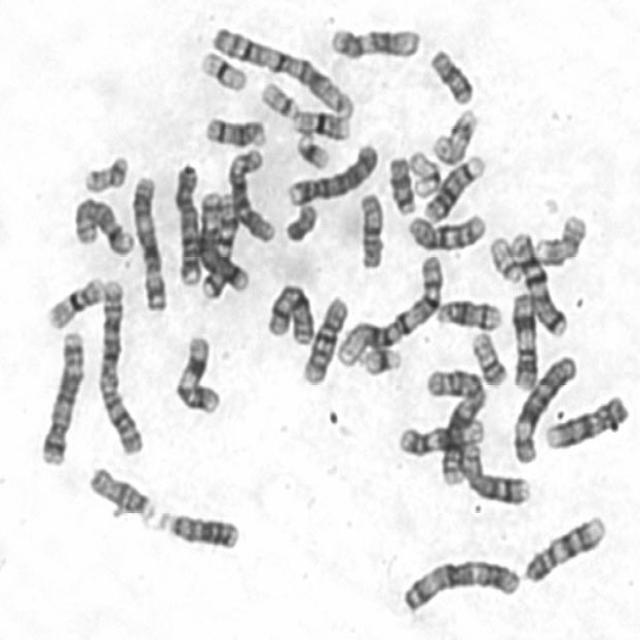A1: (208, 21, 358, 119), (332, 248, 446, 368)
A2: (92, 273, 146, 457), (421, 361, 490, 489)
A3: (396, 552, 522, 614), (126, 168, 170, 314)
B4: (282, 136, 381, 208), (168, 156, 202, 288)
B5: (34, 324, 86, 468), (189, 191, 258, 294)
C10: (298, 290, 350, 387), (403, 208, 488, 252)
C11: (169, 329, 224, 416), (506, 288, 540, 392)
C12: (393, 414, 487, 458), (325, 19, 422, 61)
C6: (508, 348, 580, 466), (222, 144, 277, 244)
C7: (505, 224, 570, 339), (193, 187, 249, 295)
C8: (458, 441, 532, 507), (68, 190, 136, 259)
C9: (519, 510, 608, 585), (539, 389, 631, 452)
D13: (419, 149, 487, 223), (150, 503, 240, 552)
D14: (432, 292, 504, 332), (199, 110, 269, 148)
D15: (83, 460, 157, 526), (353, 187, 388, 270)
E16: (41, 270, 107, 332), (287, 104, 351, 142)
E17: (529, 208, 589, 267), (427, 102, 480, 166)
E18: (424, 42, 476, 106), (383, 151, 418, 216)
F19: (194, 44, 250, 94), (404, 145, 444, 199)
F20: (466, 324, 509, 388), (79, 149, 131, 194)
G21: (291, 127, 333, 172), (358, 339, 403, 378)
G22: (484, 229, 525, 284), (256, 76, 301, 120)
X: (261, 277, 316, 346)
Y: (280, 197, 320, 244)
